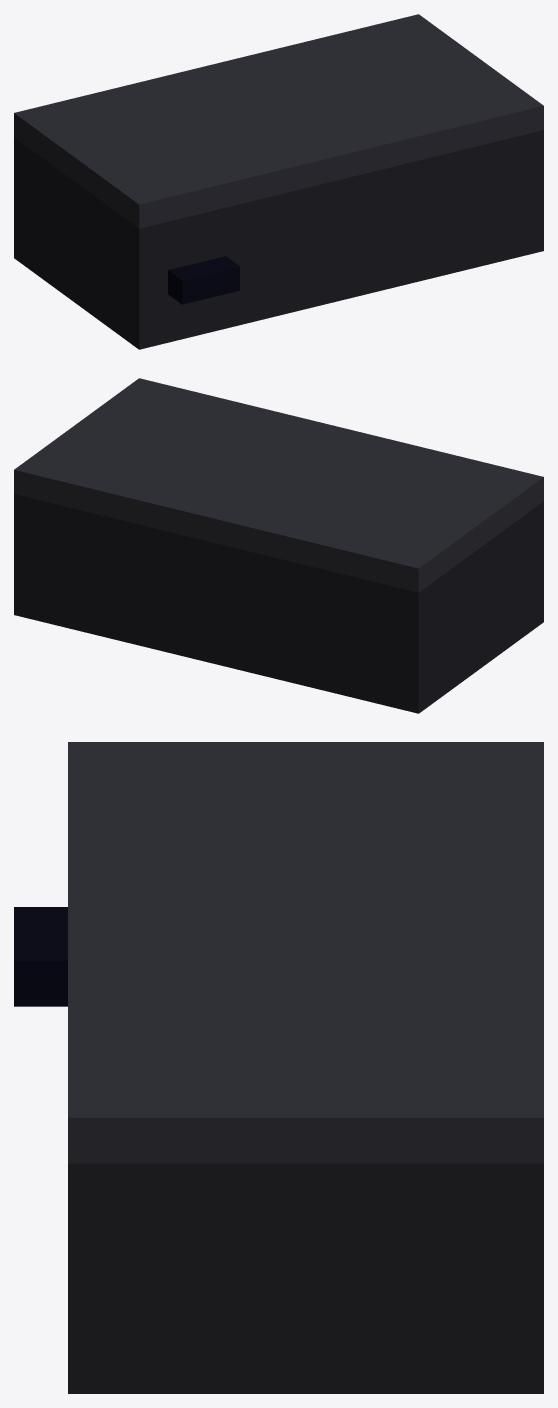
File: item_powerbank.fbx
The picture shows the model from 3 angles, top to bottom: view 1: azimuth 30°, elevation 25°; view 2: azimuth 150°, elevation 25°; view 3: azimuth 270°, elevation 25°; orthographic projection. The views are drawn at different scales.
Visible parts, largest first — view 1: M__item_powerbank; view 2: M__item_powerbank; view 3: M__item_powerbank.
Boxes of the visible parts, x1,y1,x2,y2 form: M__item_powerbank: (14, 14, 543, 349); M__item_powerbank: (14, 378, 543, 713); M__item_powerbank: (14, 742, 543, 1393).
Bounding box in the file's own units: 0.14 × 0.048 × 0.0835.
